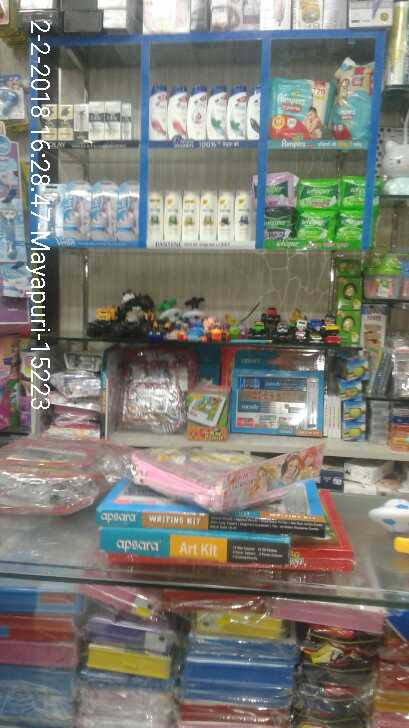venus: (64, 180, 91, 239), (92, 180, 116, 238), (116, 179, 139, 238), (1, 198, 26, 250), (1, 265, 31, 299), (45, 187, 64, 239)
